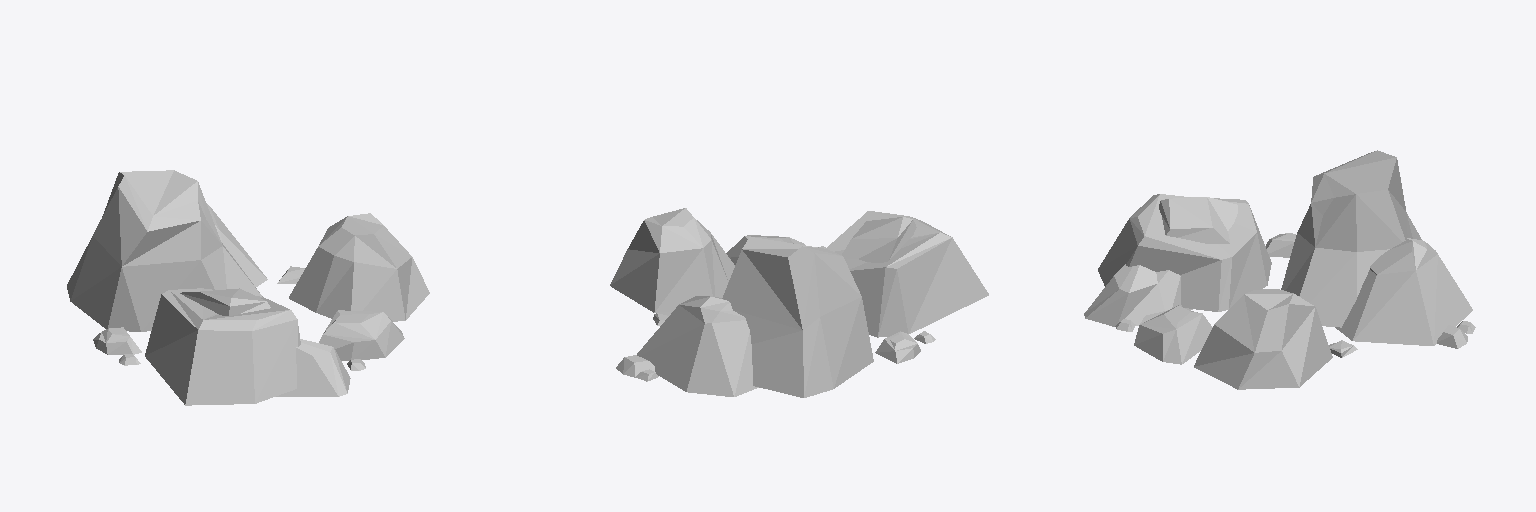
File: Roca1.obj
The picture shows the model from 3 angles: view 1: azimuth 30°, elevation 25°; view 2: azimuth 150°, elevation 25°; view 3: azimuth 270°, elevation 25°; orthographic projection.
Visible parts, largest first — view 1: Rocks01_Mesh.002; view 2: Rocks01_Mesh.002; view 3: Rocks01_Mesh.002.
Part boxes in pixels (x1,y1,x2,y2): Rocks01_Mesh.002: (67,170,429,405); Rocks01_Mesh.002: (610,208,988,397); Rocks01_Mesh.002: (1084,150,1475,389).
Bounding box in the file's own units: 5.76 × 2.35 × 6.39.